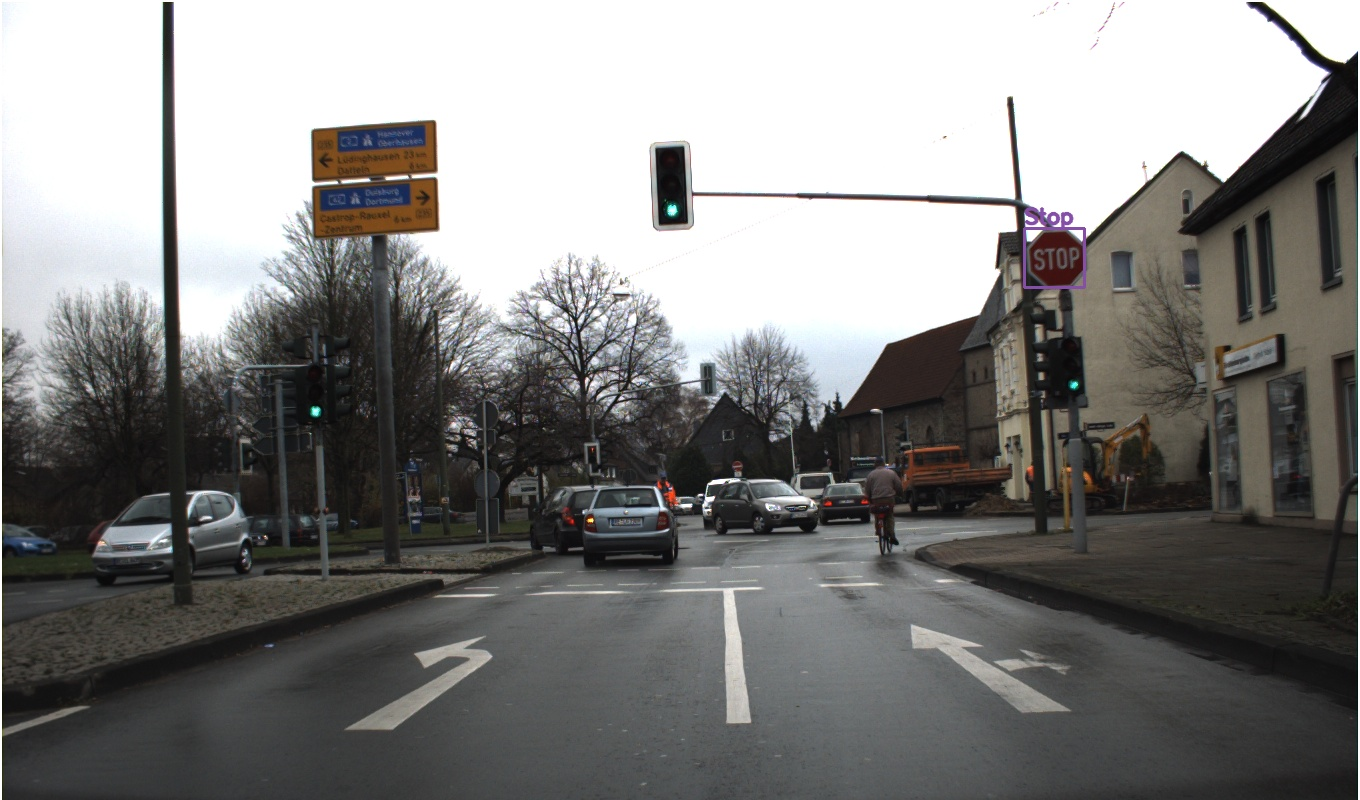No vehicles: (848, 388, 870, 413)
Yield: (1195, 267, 1302, 366)
